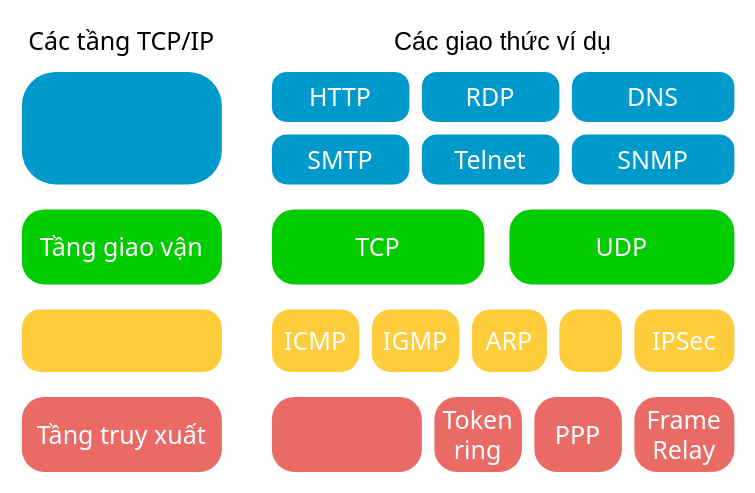
This 755x493 diagram has some shape labels left out. Here are the shapes that lost their labels. From the top down, the centre of each, then its label:
the point at 121,127: Tầng ứng dụng
the point at 121,340: Tầng mạng
the point at 590,340: IP
the point at 346,433: Ethernet (IEEE 802.3)
